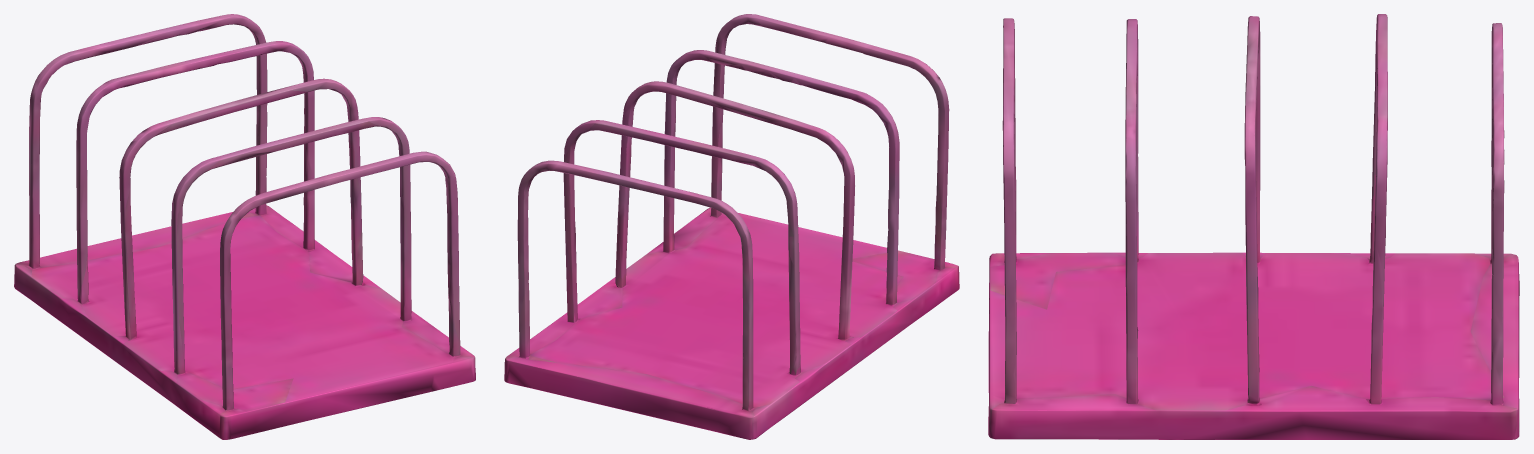
File: Poppin_File_Sorter_Pink-high.glb
3 views of the same model, side by side, from view 1: azimuth 30°, elevation 25°; view 2: azimuth 150°, elevation 25°; view 3: azimuth 270°, elevation 25° (orthographic). The views are drawn at different scales.
Parts seen in each view (by area): view 1: Poppin_File_Sorter_Pink; view 2: Poppin_File_Sorter_Pink; view 3: Poppin_File_Sorter_Pink.
Boxes of the visible parts, x1,y1,x2,y2 form: Poppin_File_Sorter_Pink: (14,14,475,439); Poppin_File_Sorter_Pink: (504,14,959,439); Poppin_File_Sorter_Pink: (988,14,1519,439).
Size of the model in its own units: 0.1739 by 0.157 by 0.2503.
1 material, 1 textured.
